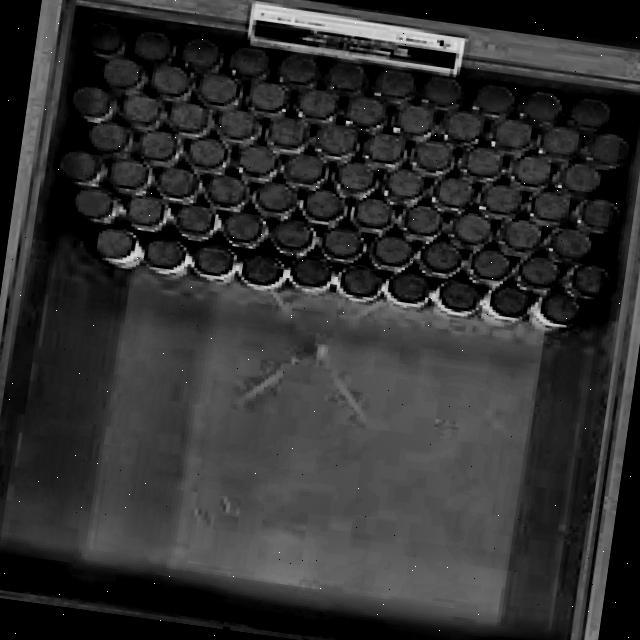vial: (535, 291, 582, 331), (489, 115, 537, 153), (386, 269, 434, 307), (226, 44, 272, 80), (148, 62, 194, 98), (220, 212, 268, 246), (276, 51, 321, 87), (571, 266, 618, 300), (436, 279, 479, 316), (180, 34, 224, 70), (100, 55, 144, 91), (56, 148, 100, 184), (205, 172, 249, 208), (90, 227, 138, 260), (324, 60, 370, 94), (184, 136, 230, 170), (86, 122, 132, 156), (154, 166, 200, 200), (550, 228, 596, 262), (70, 188, 116, 222), (589, 132, 632, 168), (302, 187, 345, 223), (339, 266, 382, 302), (489, 285, 532, 321), (117, 91, 161, 126), (580, 198, 624, 233), (81, 20, 126, 54), (471, 81, 516, 115), (313, 124, 358, 158), (510, 154, 555, 188), (133, 28, 175, 64), (422, 74, 464, 110), (520, 88, 562, 124), (570, 94, 612, 130), (364, 130, 406, 166), (560, 162, 602, 198), (266, 116, 310, 150), (321, 228, 365, 262), (240, 253, 284, 287), (290, 256, 334, 290), (412, 140, 453, 176), (70, 84, 112, 119), (352, 196, 394, 231), (374, 67, 417, 101), (237, 143, 280, 177), (451, 213, 494, 247), (270, 218, 313, 252), (136, 129, 180, 162), (394, 102, 436, 136), (401, 204, 443, 238), (519, 256, 561, 290), (216, 108, 259, 141), (479, 182, 522, 215), (176, 203, 219, 236), (198, 74, 242, 106), (442, 110, 483, 144), (463, 146, 504, 180), (106, 157, 147, 191), (501, 218, 542, 252), (540, 125, 582, 158), (168, 102, 210, 135), (470, 250, 512, 283), (422, 243, 464, 276), (371, 235, 413, 268), (296, 88, 339, 120), (433, 176, 476, 208), (346, 96, 386, 130), (384, 168, 426, 200), (124, 194, 166, 226), (248, 81, 288, 114), (256, 181, 296, 214), (144, 237, 184, 270), (283, 154, 324, 186), (195, 243, 234, 276), (335, 160, 375, 192), (533, 191, 571, 222)
